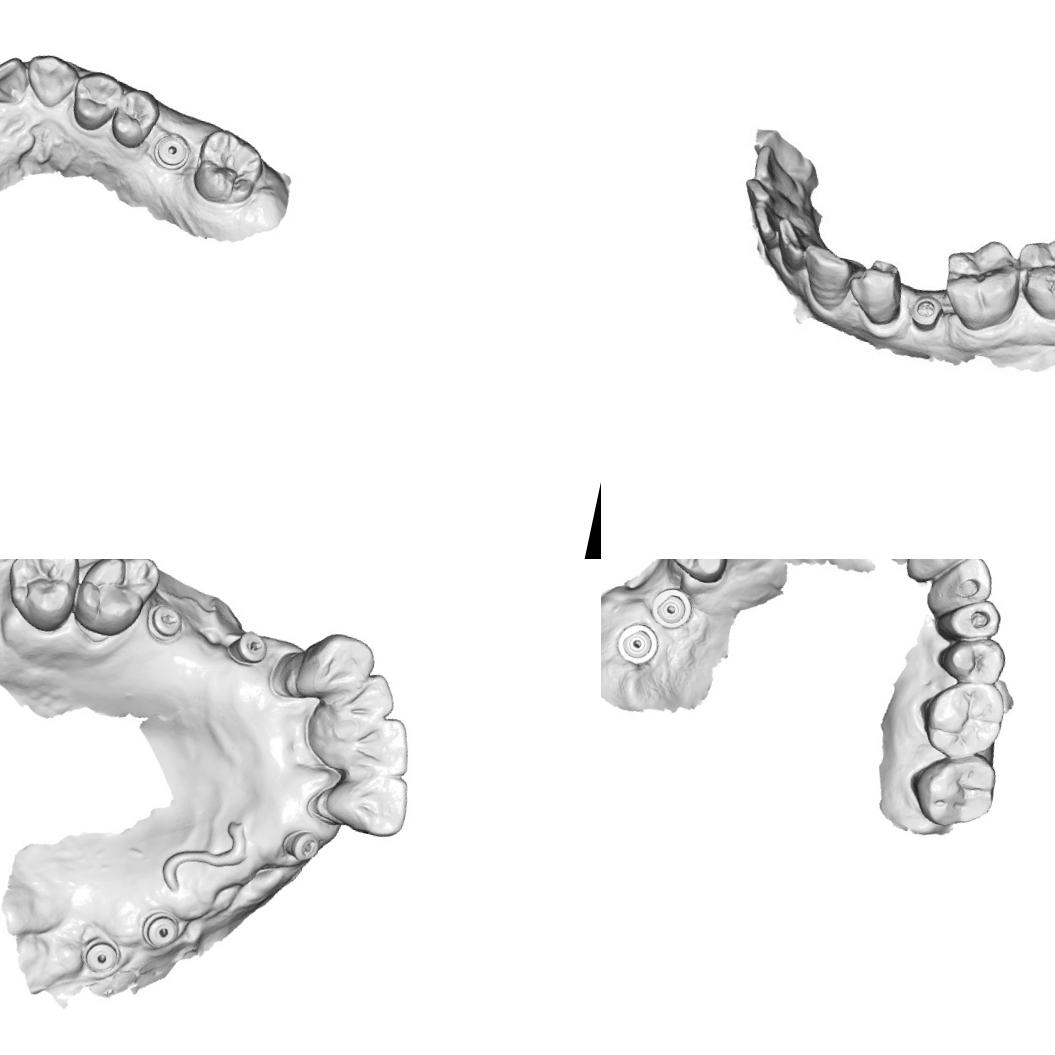canine: (790, 238, 860, 315), (926, 559, 999, 620), (20, 50, 83, 113)
implant: (613, 618, 664, 668), (647, 583, 697, 632), (140, 906, 186, 952), (902, 292, 949, 337), (150, 128, 194, 175), (80, 932, 123, 978)
implant_minus: (280, 826, 324, 865), (228, 630, 270, 668), (150, 604, 188, 640)
incisor: (316, 760, 416, 843), (290, 624, 382, 709), (333, 704, 420, 780), (745, 146, 812, 206), (332, 664, 400, 722), (769, 214, 821, 274), (735, 174, 791, 226), (745, 198, 787, 252), (0, 49, 34, 107), (912, 559, 979, 579)
molar: (934, 230, 1030, 339), (912, 670, 1012, 769), (905, 742, 1004, 837), (67, 559, 166, 645), (187, 123, 270, 212), (0, 559, 87, 637), (1005, 226, 1055, 326)
premolar: (841, 253, 913, 329), (931, 628, 1011, 691), (932, 589, 1005, 649), (106, 82, 165, 153), (67, 68, 127, 136), (662, 559, 735, 587)
